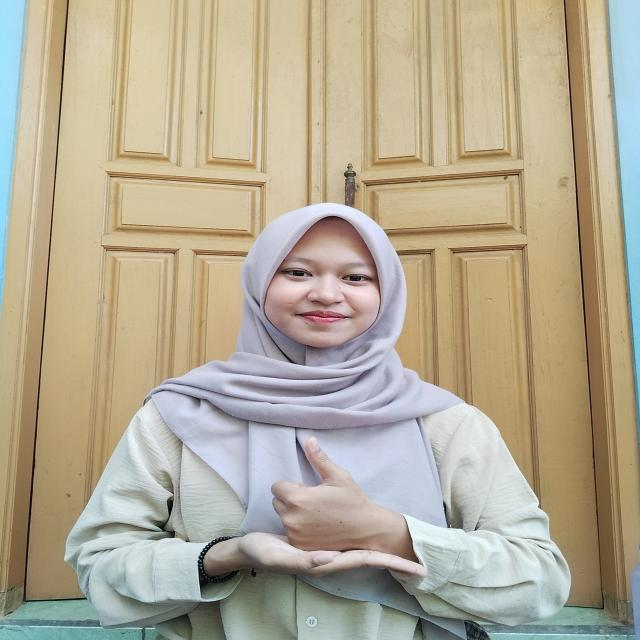cantik: (203, 414, 430, 605)
